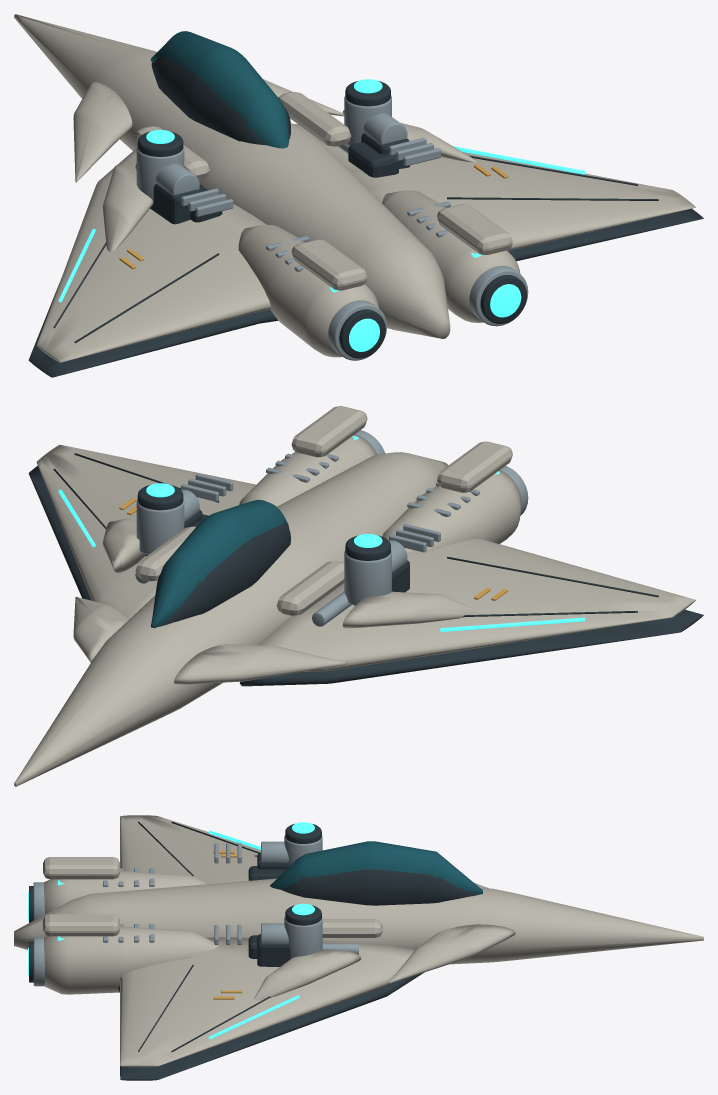
Rendered from common-3.glb.
The picture shows the model from 3 angles, top to bottom: view 1: azimuth 30°, elevation 25°; view 2: azimuth 150°, elevation 25°; view 3: azimuth 270°, elevation 25°; orthographic projection. The views are drawn at different scales.
Parts seen in each view (by area): view 1: SM_Hull, SM_Wing_Left, SM_Wing_Right, SM_Engine_Left, SM_Engine_Right, SM_Stage03, SM_Stage04, SM_Stage02, SM_Stage01, SM_Weapon_Right; view 2: SM_Hull, SM_Wing_Left, SM_Wing_Right, SM_Engine_Left, SM_Stage03, SM_Stage04, SM_Stage02, SM_Engine_Right, SM_Stage01, SM_Weapon_Left; view 3: SM_Hull, SM_Wing_Right, SM_Engine_Right, SM_Wing_Left, SM_Stage03, SM_Engine_Left, SM_Stage04, SM_Stage02, SM_Stage01, SM_Weapon_Right.
Part boxes in pixels (x1,y1,x2,y2): SM_Hull: (14,14,450,338); SM_Wing_Left: (28,82,277,377); SM_Wing_Right: (263,79,703,261); SM_Engine_Left: (238,224,386,360); SM_Engine_Right: (382,190,528,326); SM_Stage03: (181,138,512,290); SM_Stage04: (136,79,391,201); SM_Stage02: (102,110,478,251); SM_Stage01: (150,113,409,224); SM_Weapon_Right: (338,142,398,177); SM_Hull: (14,452,448,786); SM_Wing_Left: (174,538,703,686); SM_Wing_Right: (28,444,255,662); SM_Engine_Left: (382,466,528,554); SM_Stage03: (181,406,512,552); SM_Stage04: (136,483,391,605); SM_Stage02: (102,518,478,628); SM_Engine_Right: (239,430,385,506); SM_Stage01: (145,489,409,592); SM_Weapon_Left: (312,591,351,626); SM_Hull: (14,841,703,964); SM_Wing_Right: (118,924,515,1080); SM_Engine_Right: (28,924,218,994); SM_Wing_Left: (120,815,488,888); SM_Stage03: (43,843,241,944); SM_Engine_Left: (28,868,208,922); SM_Stage04: (284,822,322,958); SM_Stage02: (254,854,361,1000); SM_Stage01: (257,841,290,966); SM_Weapon_Right: (248,935,358,958).
Bounding box in the file's own units: 6.27 × 1.39 × 7.15.
